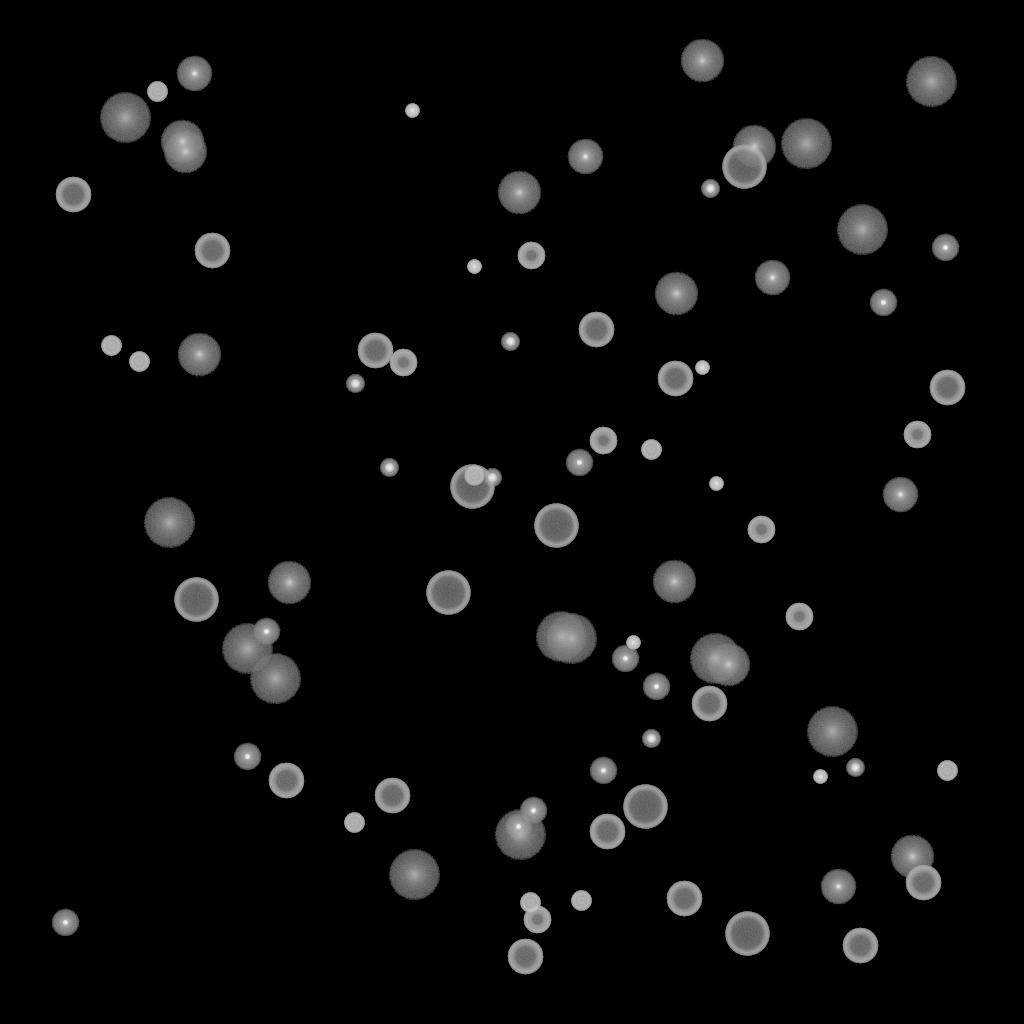depth:-10: (589, 757, 617, 785), (642, 673, 670, 701), (51, 909, 79, 937), (252, 618, 280, 646), (869, 289, 897, 317), (519, 797, 547, 825), (565, 449, 593, 477), (931, 234, 959, 262), (504, 813, 532, 841), (611, 645, 639, 673), (233, 743, 261, 771)
depth:-20: (346, 375, 364, 393), (380, 459, 398, 477), (483, 469, 501, 487), (701, 180, 719, 198), (501, 333, 519, 351), (846, 759, 864, 777), (642, 730, 660, 748)
depth:-30: (813, 770, 827, 784), (709, 477, 723, 491), (695, 361, 709, 375), (626, 636, 640, 650), (467, 260, 481, 274), (405, 104, 419, 118)
depth:-40: (101, 336, 121, 356), (571, 891, 591, 911), (937, 761, 957, 781), (129, 352, 149, 372), (520, 893, 540, 913), (344, 813, 364, 833), (147, 82, 167, 102), (641, 440, 661, 460), (464, 466, 484, 486)
depth:-50: (517, 242, 545, 270), (747, 516, 775, 544), (903, 421, 931, 449), (589, 427, 617, 455), (523, 906, 551, 934), (389, 349, 417, 377), (785, 603, 813, 631)
depth:-60: (374, 778, 410, 814), (357, 333, 393, 369), (507, 939, 543, 975), (194, 233, 230, 269), (268, 763, 304, 799), (657, 361, 693, 397), (929, 370, 965, 406), (842, 928, 878, 964), (905, 865, 941, 901), (55, 177, 91, 213), (666, 881, 702, 917), (691, 686, 727, 722), (589, 814, 625, 850), (578, 312, 614, 348)
depth:-70: (534, 504, 578, 548), (174, 578, 218, 622), (722, 145, 766, 189), (450, 465, 494, 509), (623, 785, 667, 829), (725, 912, 769, 956), (426, 571, 470, 615)
depth:0: (567, 139, 603, 175), (754, 260, 790, 296), (882, 477, 918, 513), (176, 56, 212, 92), (820, 869, 856, 905)
depth:10: (160, 120, 204, 164), (497, 171, 541, 215), (654, 272, 698, 316), (706, 643, 750, 687), (680, 39, 724, 83), (732, 125, 776, 169), (177, 333, 221, 377), (652, 560, 696, 604), (163, 130, 207, 174), (890, 835, 934, 879), (267, 561, 311, 605)
depth:20: (689, 634, 741, 684), (905, 57, 957, 107), (836, 205, 888, 255), (780, 119, 832, 169), (99, 93, 151, 143), (143, 498, 195, 548), (494, 810, 546, 860), (249, 654, 301, 704), (806, 707, 858, 757), (221, 624, 273, 674), (535, 612, 587, 662), (388, 850, 440, 900), (545, 614, 597, 664)
